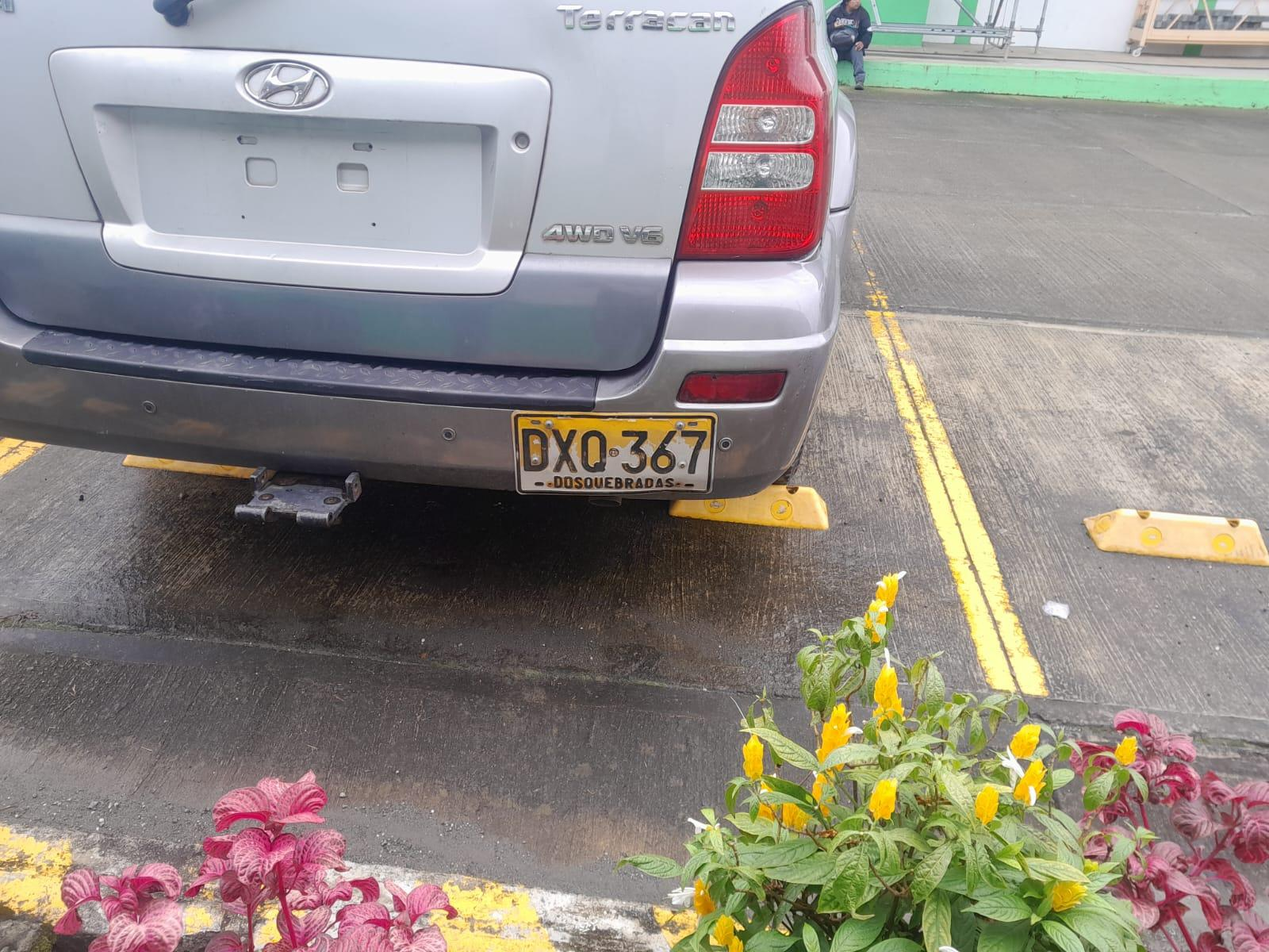placa: (514, 412, 715, 493)
